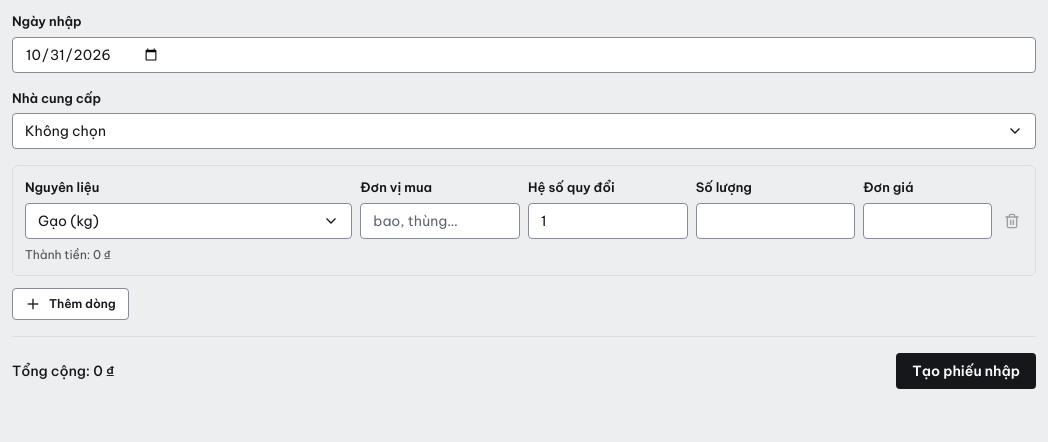
ReceiptForm › blocks submit when quantity is missing
In the number field labelled "Đơn giá": (928, 221) [863,203,992,239], type "1000"
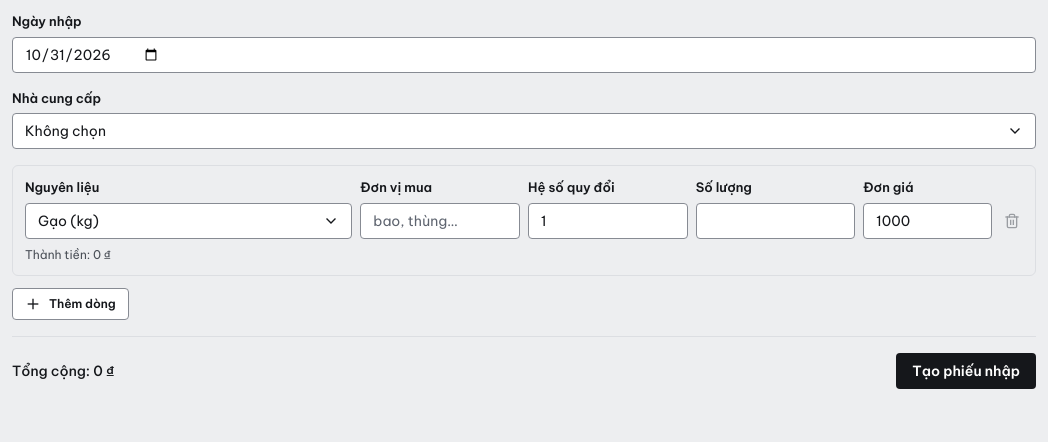
Click the button "Tạo phiếu nhập": (966, 371) [896,353,1036,389]
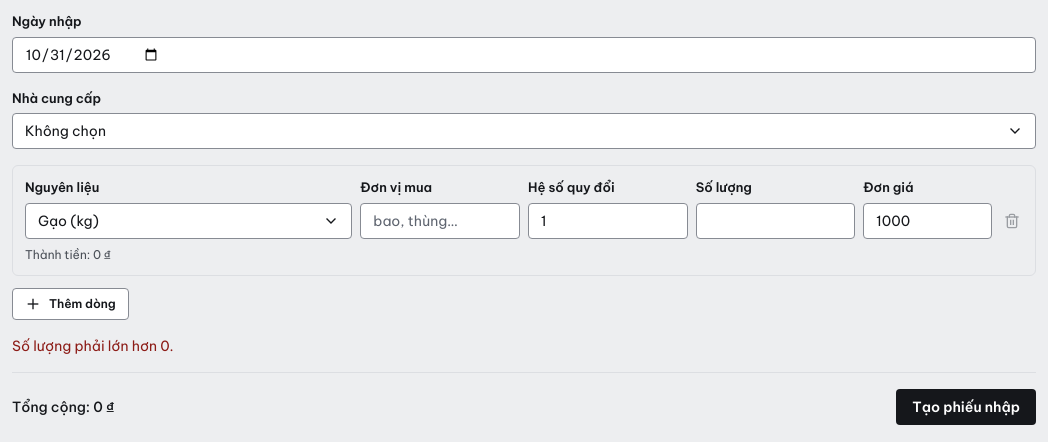
expect the message reads "Số lượng phải lớn hơn 0.": met, box [12,337,174,355]
